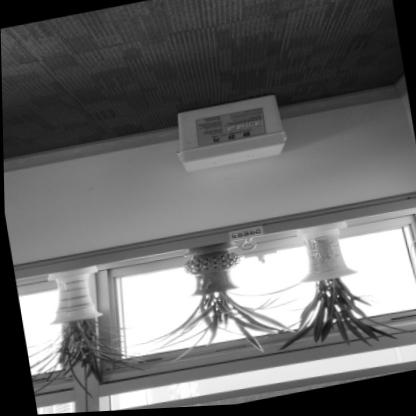DDL: (171, 94, 286, 175)
